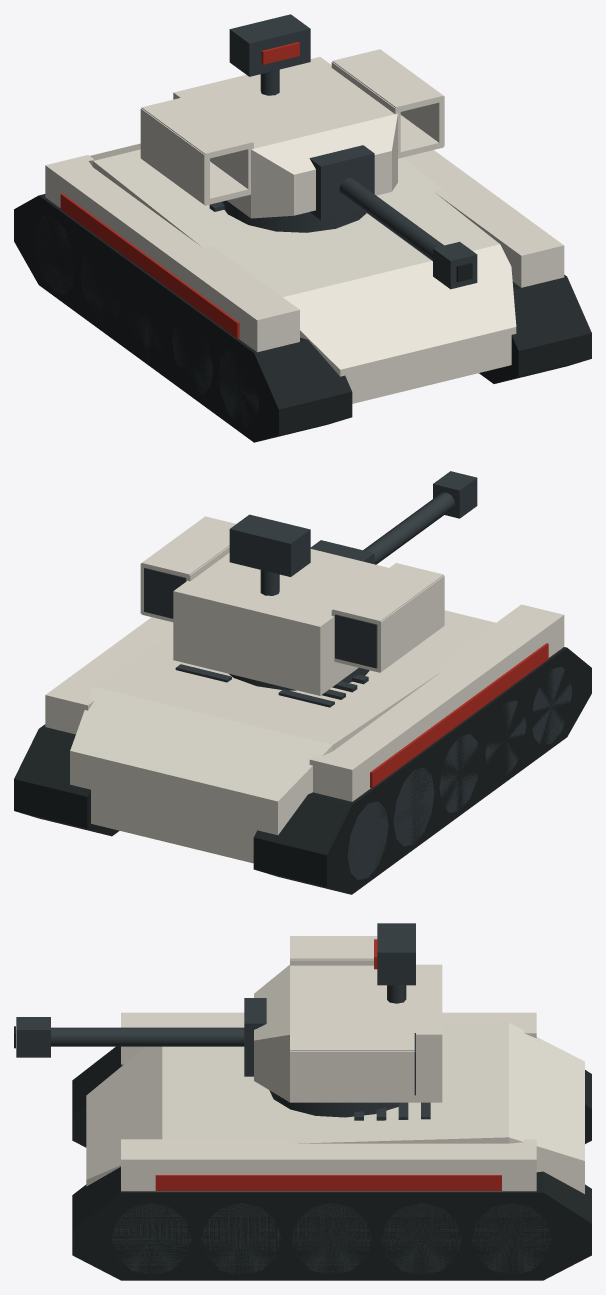
3 renders of one model, top to bottom at view 1: azimuth 30°, elevation 25°; view 2: azimuth 150°, elevation 25°; view 3: azimuth 270°, elevation 25°, orthographic.
Visible parts, largest first — view 1: drone-tank-fleet-armor, drone-tank-fleet-rubber, turret-fleet-armor, launcher--1-fleet-armor, barrel-fleet-machine, launcher-1-fleet-armor, radar-fleet-machine, drone-tank-fleet-red, drone-tank-fleet-machine, wheel--1-4-fleet-machine, wheel--1-0-fleet-machine, wheel--1-3-fleet-machine (+2 smaller); view 2: drone-tank-fleet-armor, drone-tank-fleet-rubber, turret-fleet-armor, launcher--1-fleet-armor, barrel-fleet-machine, radar-fleet-machine, launcher-1-fleet-armor, drone-tank-fleet-red, wheel--1-1-fleet-machine, wheel--1-0-fleet-machine, launcher--1-fleet-machine, drone-tank-fleet-machine (+4 smaller); view 3: drone-tank-fleet-armor, drone-tank-fleet-rubber, turret-fleet-armor, launcher-1-fleet-armor, barrel-fleet-machine, drone-tank-fleet-red, wheel-1-2-fleet-machine, wheel-1-1-fleet-machine, wheel-1-4-fleet-machine, wheel-1-3-fleet-machine, wheel-1-0-fleet-machine, launcher--1-fleet-armor (+2 smaller).
Part boxes in pixels (box(x1,y1,x2,y2)): drone-tank-fleet-armor: box(45, 143, 564, 403); drone-tank-fleet-rubber: box(14, 194, 591, 442); turret-fleet-armor: box(173, 57, 397, 218); launcher--1-fleet-armor: box(140, 95, 253, 205); barrel-fleet-machine: box(309, 145, 477, 289); launcher-1-fleet-armor: box(331, 49, 444, 158); radar-fleet-machine: box(229, 14, 310, 76); drone-tank-fleet-red: box(60, 193, 239, 338); drone-tank-fleet-machine: box(209, 200, 366, 232); wheel--1-4-fleet-machine: box(218, 350, 258, 427); wheel--1-0-fleet-machine: box(35, 215, 74, 293); wheel--1-3-fleet-machine: box(172, 324, 212, 394); drone-tank-fleet-armor: box(45, 604, 564, 863); drone-tank-fleet-rubber: box(14, 647, 591, 894); turret-fleet-armor: box(173, 549, 388, 695); launcher--1-fleet-armor: box(331, 563, 444, 672); barrel-fleet-machine: box(310, 471, 477, 564); radar-fleet-machine: box(229, 514, 310, 576); launcher-1-fleet-armor: box(140, 516, 235, 622); drone-tank-fleet-red: box(370, 643, 548, 787); wheel--1-1-fleet-machine: box(393, 767, 434, 846); wheel--1-0-fleet-machine: box(347, 801, 388, 880); launcher--1-fleet-machine: box(335, 614, 377, 668); drone-tank-fleet-machine: box(175, 664, 369, 707); drone-tank-fleet-armor: box(86, 1012, 584, 1193); drone-tank-fleet-rubber: box(72, 1046, 591, 1280); turret-fleet-armor: box(254, 964, 442, 1102); launcher-1-fleet-armor: box(290, 1027, 414, 1100); barrel-fleet-machine: box(16, 998, 266, 1076); drone-tank-fleet-red: box(155, 1175, 501, 1190); wheel-1-2-fleet-machine: box(291, 1203, 371, 1274); wheel-1-1-fleet-machine: box(381, 1203, 461, 1274); wheel-1-4-fleet-machine: box(111, 1203, 191, 1274); wheel-1-3-fleet-machine: box(201, 1203, 281, 1274); wheel-1-0-fleet-machine: box(471, 1203, 551, 1274); launcher--1-fleet-armor: box(290, 936, 377, 965).
Size of the model in its own units: 13.57 by 11.29 by 22.11.
